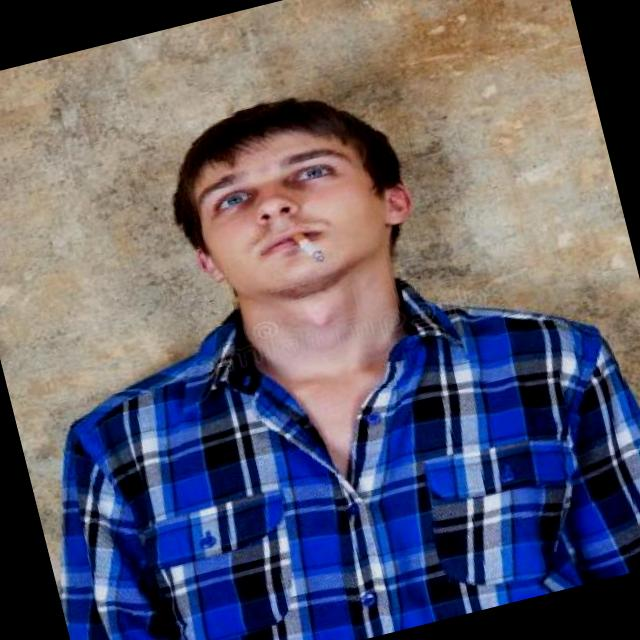smoke: (286, 225, 326, 268)
